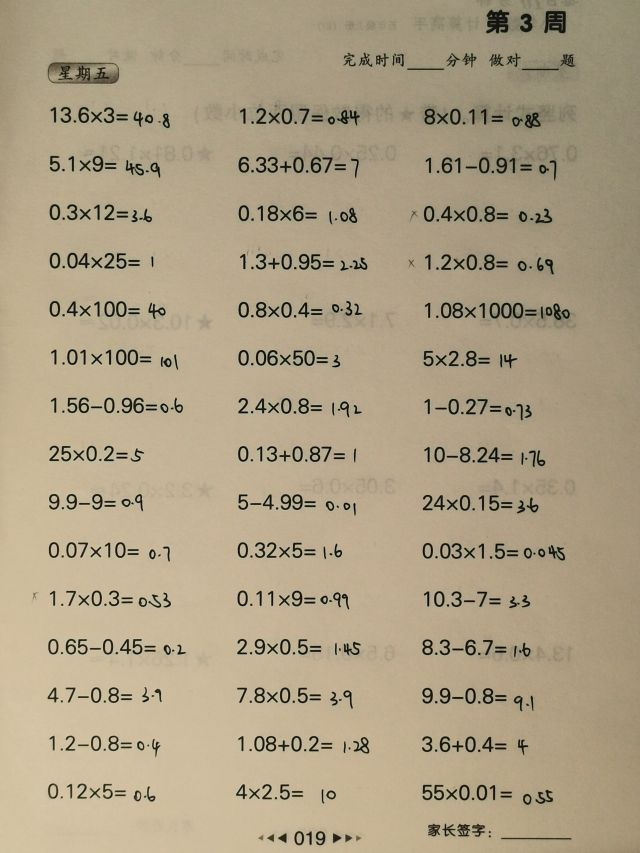equation: (416, 778, 557, 808), (421, 151, 560, 180), (403, 250, 558, 276), (420, 297, 574, 323), (43, 100, 176, 130), (406, 200, 556, 226), (417, 538, 569, 563), (47, 343, 182, 371), (234, 150, 363, 179), (417, 681, 539, 711), (44, 634, 190, 659), (29, 585, 174, 610), (234, 730, 373, 756), (47, 393, 188, 418), (236, 248, 370, 274), (235, 101, 364, 128), (420, 441, 548, 468), (234, 393, 365, 419), (44, 537, 174, 563), (234, 489, 359, 516), (419, 103, 544, 130), (418, 489, 542, 516), (233, 682, 356, 709), (234, 200, 361, 226), (235, 297, 367, 322), (234, 634, 365, 659), (233, 585, 353, 612), (45, 151, 165, 178), (46, 730, 163, 757), (420, 393, 537, 420), (45, 296, 170, 321), (44, 683, 166, 708), (234, 442, 361, 466), (417, 634, 534, 660), (43, 778, 159, 804), (417, 731, 531, 757), (45, 199, 156, 225), (419, 586, 533, 611), (234, 538, 347, 563), (46, 248, 158, 273), (233, 345, 343, 370), (231, 779, 339, 804), (418, 345, 521, 371), (44, 488, 146, 514), (46, 441, 148, 466)
